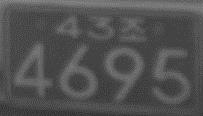3: (85, 14, 115, 41)
4: (12, 42, 54, 98), (56, 14, 83, 39)
5: (151, 47, 192, 106)
6: (58, 42, 98, 101)
9: (104, 44, 145, 102)
조: (117, 15, 146, 43)
